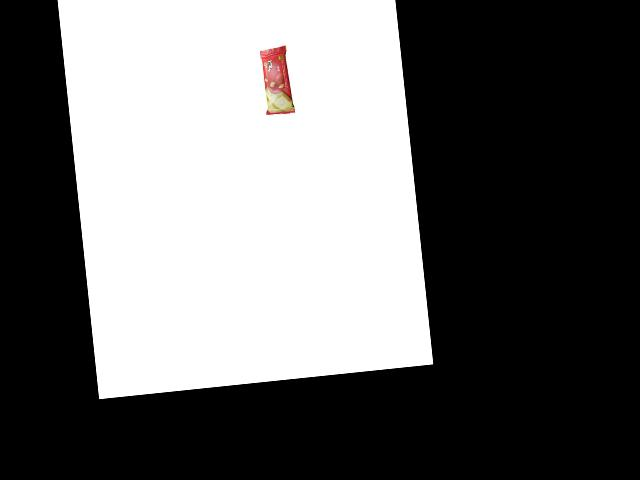chocolate: (257, 40, 299, 116)
